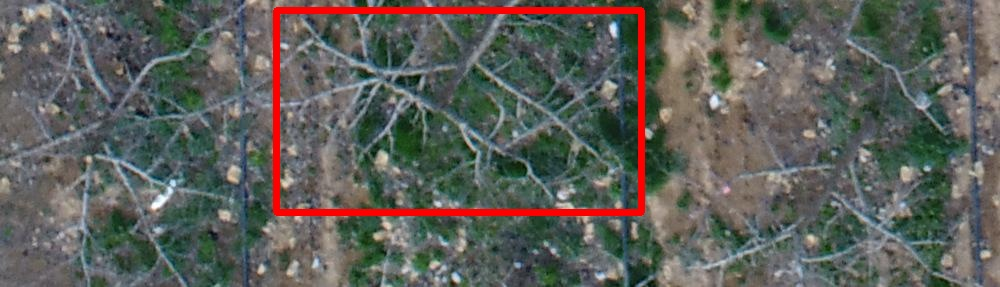apple: (276, 10, 641, 212)
